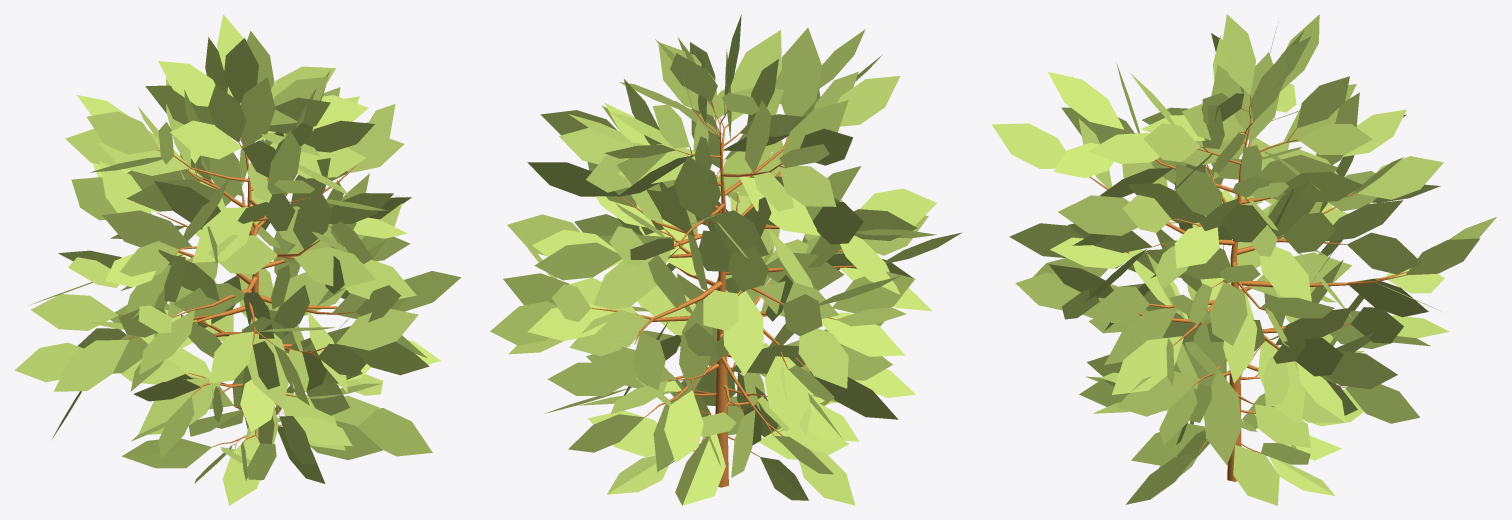
The model's file is Arbusto_Flat.fbx.
The picture shows the model from 3 angles, left to right: view 1: azimuth 30°, elevation 25°; view 2: azimuth 150°, elevation 25°; view 3: azimuth 270°, elevation 25°; orthographic projection. The views are drawn at different scales.
Visible parts, largest first — view 1: Arbusto Flat; view 2: Arbusto Flat; view 3: Arbusto Flat.
Part boxes in pixels (x1=…): Arbusto Flat: x1=14, y1=14, x2=460, y2=505; Arbusto Flat: x1=490, y1=14, x2=961, y2=505; Arbusto Flat: x1=991, y1=14, x2=1496, y2=505.
Size of the model in its own units: 169 by 198 by 199.
